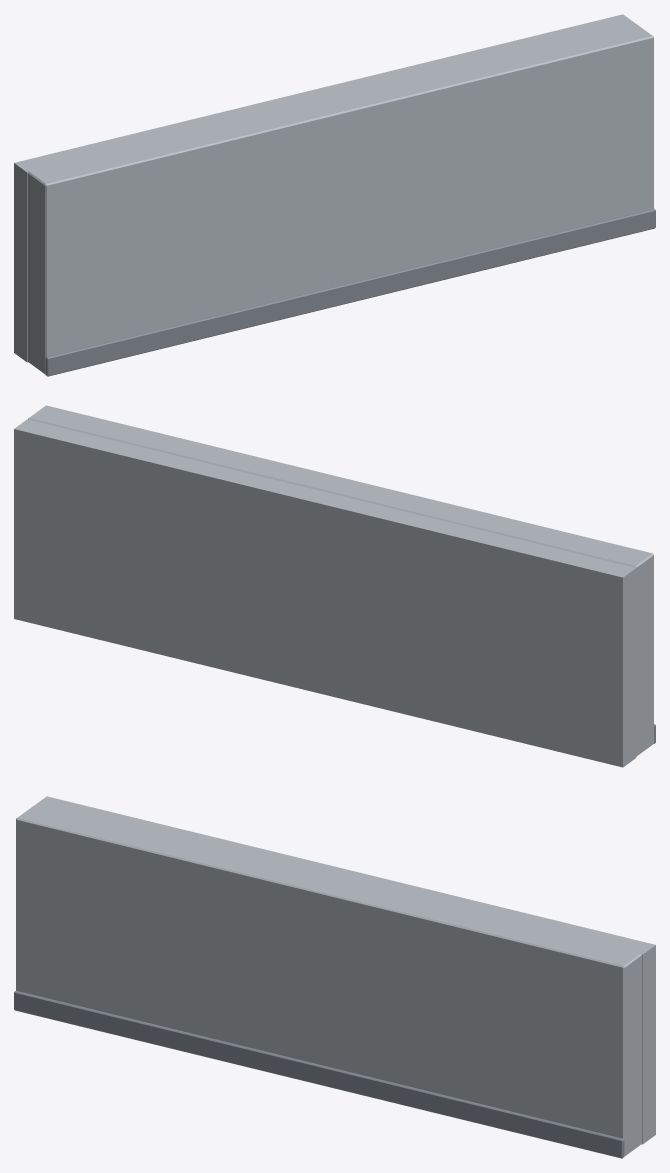
Rendered from soco_h60_2m.glb.
3 views of the same model, one above another, from view 1: azimuth 30°, elevation 25°; view 2: azimuth 150°, elevation 25°; view 3: azimuth 330°, elevation 25° (orthographic).
Parts seen in each view (by area): view 1: soco_h60_2m; view 2: soco_h60_2m; view 3: soco_h60_2m.
Boxes of the visible parts, x1,y1,x2,y2 form: soco_h60_2m: (14, 14, 655, 376); soco_h60_2m: (14, 405, 655, 767); soco_h60_2m: (14, 796, 655, 1158).
Size of the model in its own units: 2 by 0.6 by 0.19.
1 material, 1 textured.
